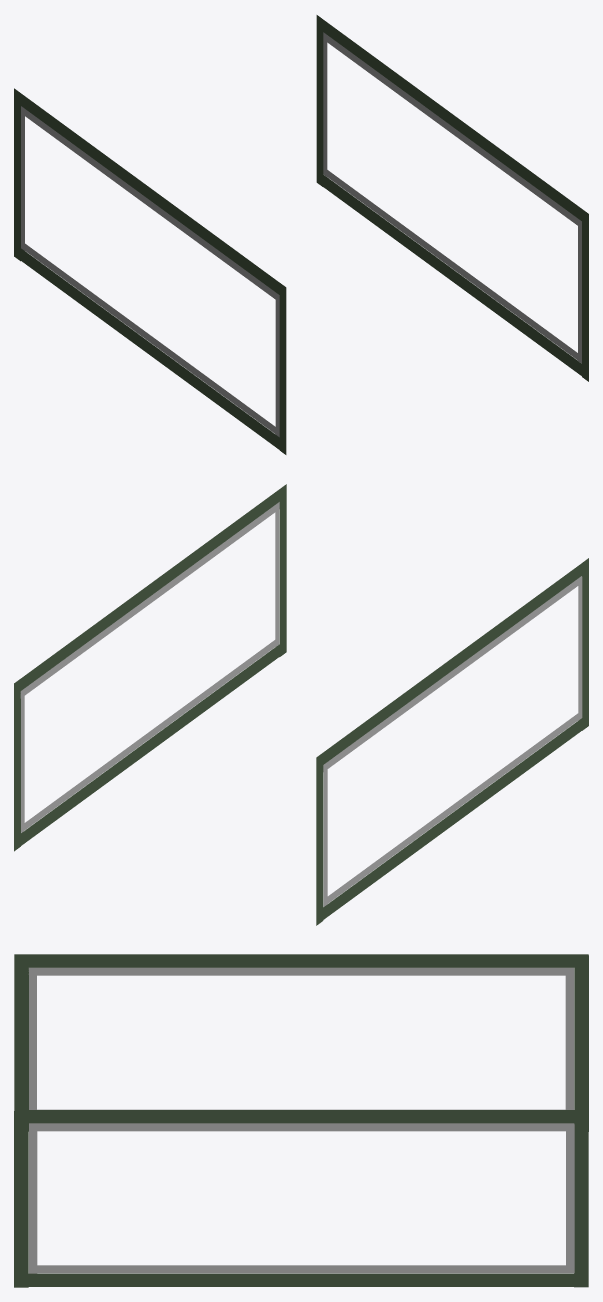
The model's file is gnr-tender-lining.dae.
3 views of the same model, one above another, from view 1: azimuth 30°, elevation 25°; view 2: azimuth 150°, elevation 25°; view 3: azimuth 270°, elevation 25° (orthographic). The views are drawn at different scales.
Visible parts, largest first — view 1: Plane_003_001, Plane_003_003, Plane_003_008, Plane_003_006, Plane_010_001, Plane_009, Plane_009_001, Plane_010_002, Plane_003_007, Plane_003_002, Plane_003_005, Plane_003_004 (+3 smaller); view 2: Plane_003_001, Plane_003_003, Plane_003_006, Plane_003_008, Plane_010_001, Plane_009, Plane_010_002, Plane_009_001, Plane_003_005, Plane_003_007, Plane_003_002, Plane_003_004 (+3 smaller); view 3: Plane_003_006, Plane_003_001, Plane_003_003, Plane_010_002, Plane_010_001, Plane_009, Plane_003_004, Plane_003_002, Plane_003_007, Plane_003_005, Plane_006_001, Plane_008_001 (+3 smaller).
Part boxes in pixels (box(x1,y1,x2,y2)): Plane_003_001: box(318, 171, 588, 380); Plane_003_003: box(323, 20, 588, 226); Plane_003_008: box(21, 248, 284, 450); Plane_003_006: box(14, 88, 280, 295); Plane_010_001: box(323, 32, 581, 228); Plane_009: box(326, 169, 579, 361); Plane_009_001: box(25, 243, 275, 433); Plane_010_002: box(21, 106, 279, 299); Plane_003_007: box(279, 283, 286, 454); Plane_003_002: box(316, 15, 323, 186); Plane_003_005: box(14, 89, 20, 261); Plane_003_004: box(582, 222, 588, 381); Plane_003_001: box(16, 640, 285, 848); Plane_003_003: box(19, 484, 286, 690); Plane_003_006: box(316, 562, 583, 764); Plane_003_008: box(323, 715, 586, 919); Plane_010_001: box(20, 502, 279, 698); Plane_009: box(24, 638, 277, 830); Plane_010_002: box(323, 576, 581, 771); Plane_009_001: box(327, 713, 578, 903); Plane_003_005: box(316, 753, 323, 925); Plane_003_007: box(582, 558, 588, 730); Plane_003_002: box(14, 678, 20, 851); Plane_003_004: box(279, 497, 286, 656); Plane_003_006: box(25, 954, 588, 967); Plane_003_001: box(28, 1273, 583, 1286); Plane_003_003: box(14, 1110, 577, 1123); Plane_010_002: box(28, 967, 573, 975); Plane_010_001: box(29, 1123, 574, 1131); Plane_009: box(37, 1265, 565, 1273); Plane_003_004: box(14, 1111, 28, 1287); Plane_003_002: box(574, 1110, 588, 1287); Plane_003_007: box(14, 954, 28, 1131); Plane_003_005: box(574, 955, 588, 1131); Plane_006_001: box(566, 1124, 574, 1273); Plane_008_001: box(29, 1124, 37, 1273).
Size of the model in its own units: 2.02 by 3.15 by 1.07.
